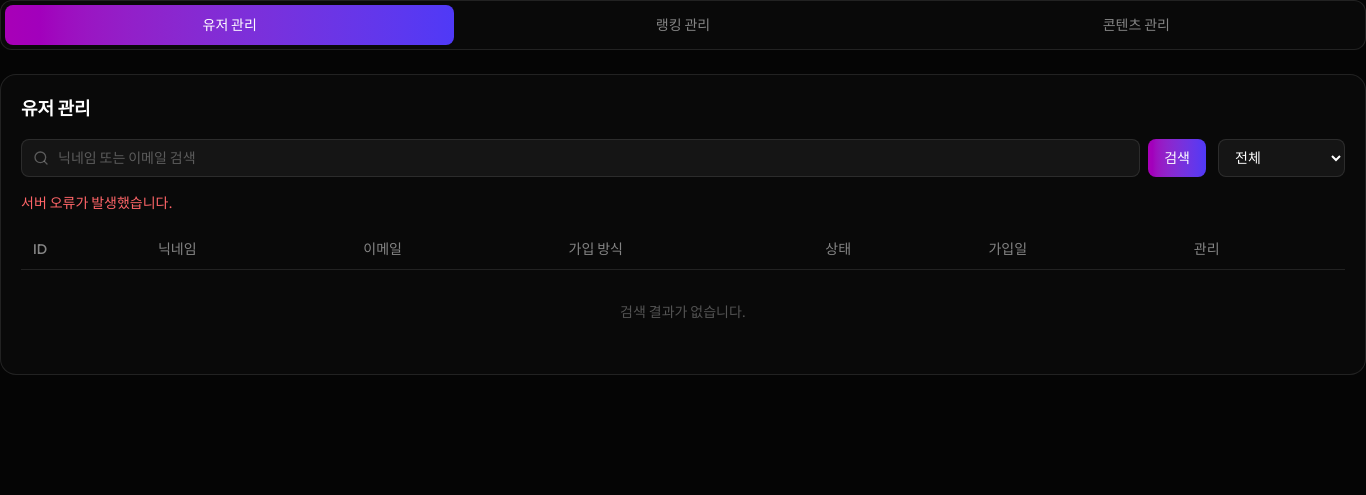
Test: AdminTabs › 탭 전환 시 이전 탭의 콘텐츠가 사라져야 한다
Check: the heading "유저 관리" is shown, box [21,97,91,120]
# 랭킹 관리로 전환
Click the button "랭킹 관리". click: point(683, 25)
box: [458,5,908,45]
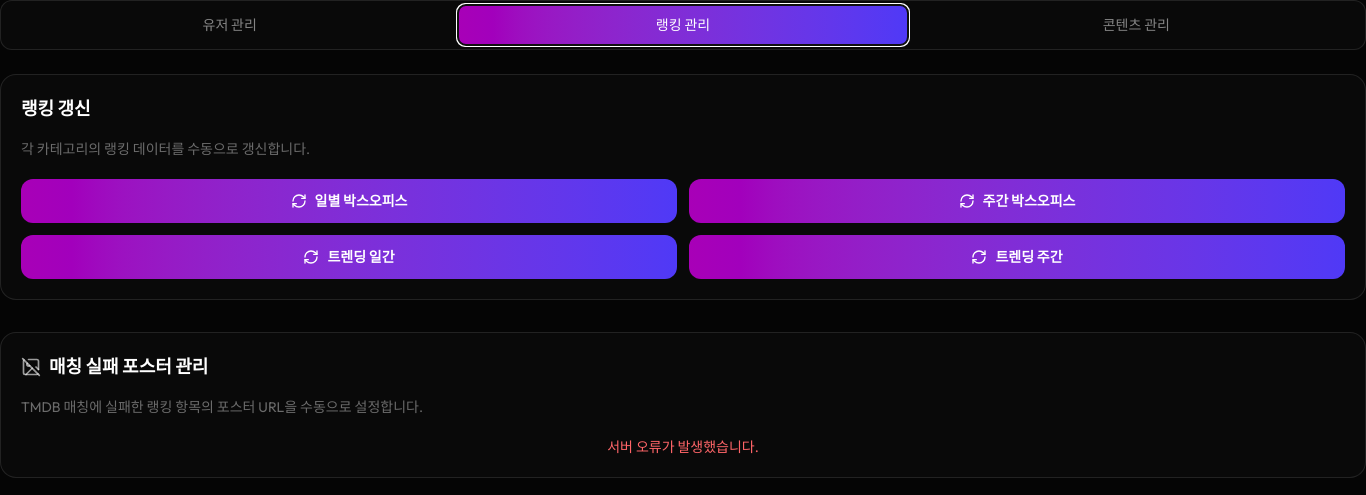
Check: the heading "랭킹 갱신" is shown, box [21,97,91,120]
# 콘텐츠 관리로 전환
Click the button "콘텐츠 관리". click: point(1136, 25)
box: [912,5,1361,45]
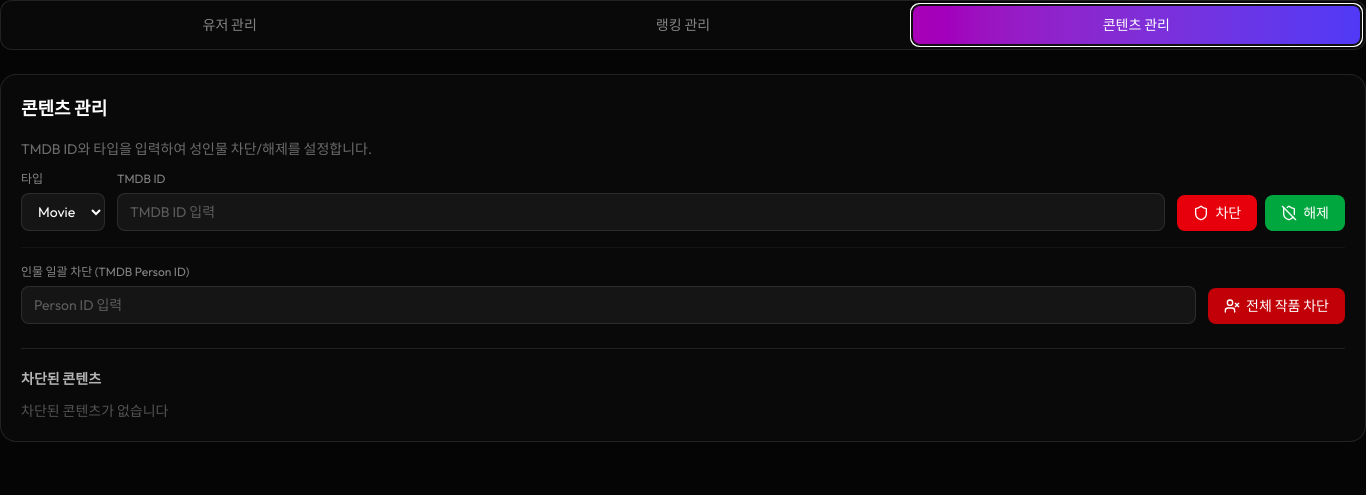
Check: the heading "콘텐츠 관리" is shown, box [21,97,107,120]
Check: the heading "랭킹 갱신" is gone
